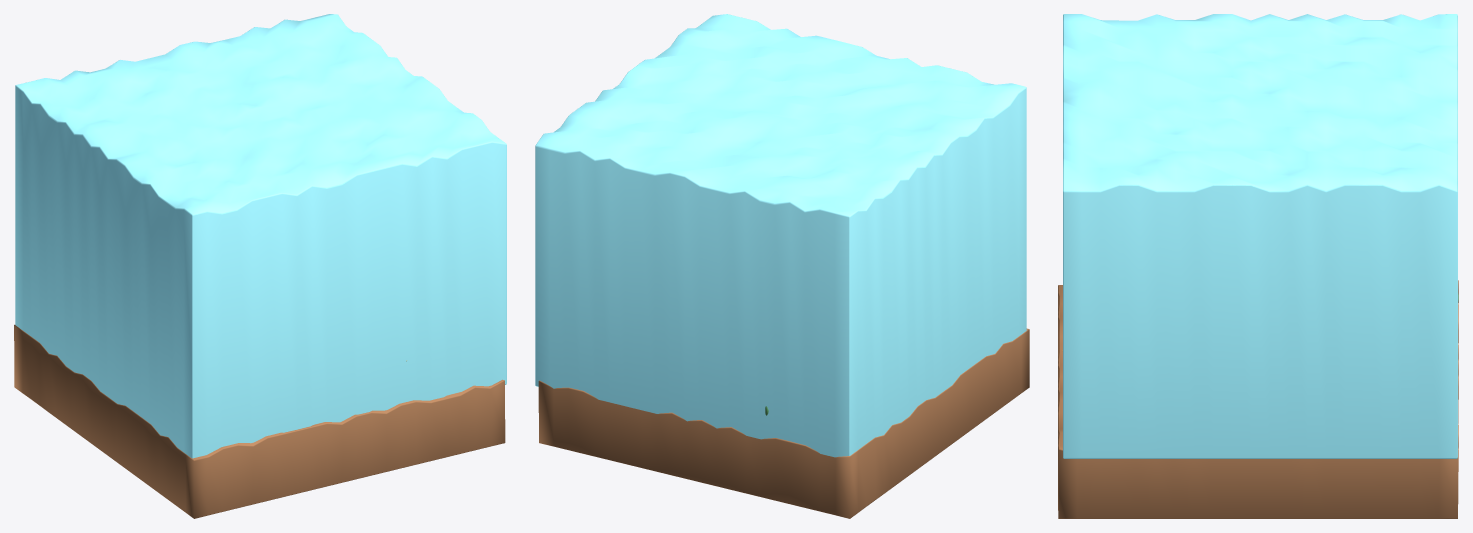
Rendered from coral reef.fbx.
3 views of the same model, side by side, from view 1: azimuth 30°, elevation 25°; view 2: azimuth 150°, elevation 25°; view 3: azimuth 270°, elevation 25° (orthographic). The views are drawn at different scales.
Visible parts, largest first — view 1: Sea, Sand; view 2: Sea, Sand; view 3: Sea, Sand.
Part boxes in pixels (x1,y1,x2,y2): Sea: (15, 14, 506, 458); Sand: (14, 324, 505, 518); Sea: (535, 14, 1026, 457); Sand: (538, 328, 1029, 518); Sea: (1063, 14, 1457, 458); Sand: (1058, 280, 1458, 518).
Bounding box in the file's own units: 152 × 139 × 150.
